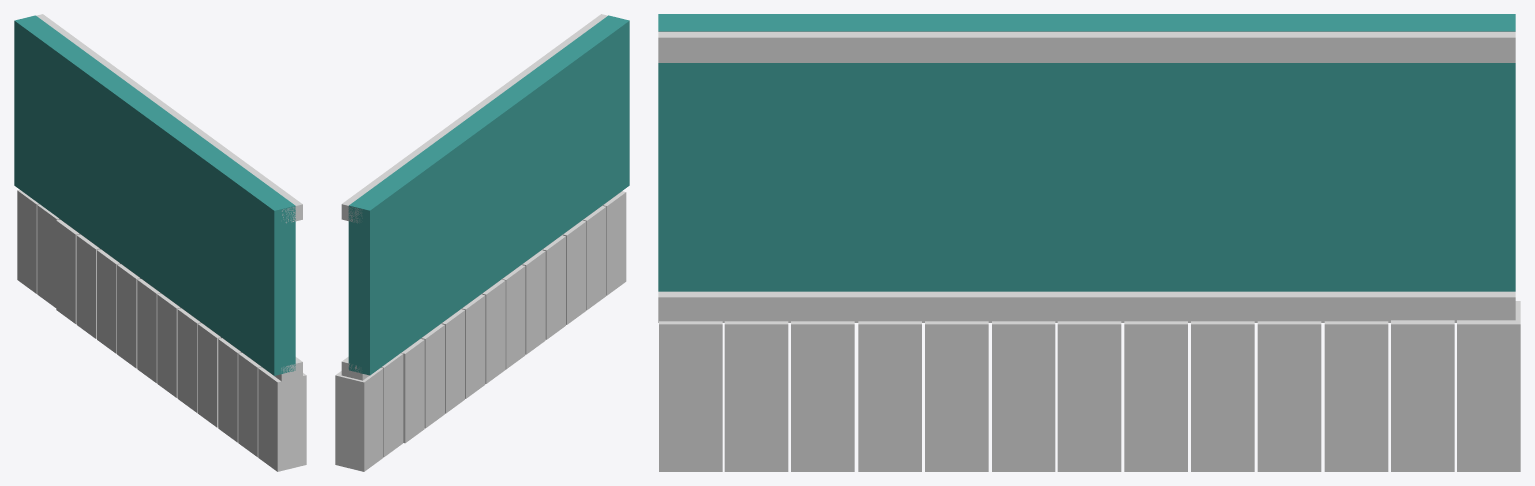
Rendered from mur.FBX.
3 views of the same model, side by side, from view 1: azimuth 30°, elevation 25°; view 2: azimuth 150°, elevation 25°; view 3: azimuth 270°, elevation 25° (orthographic). The views are drawn at different scales.
Visible parts, largest first — view 1: pCube1, pCube3, pCube16, pCube6, pCube7, pCube10, pCube8, pCube12, pCube4, pCube5, pCube9, pCube13 (+4 smaller); view 2: pCube1, pCube15, pCube16, pCube13, pCube3, pCube5, pCube10, pCube8, pCube9, pCube12, pCube6, pCube7 (+4 smaller); view 3: pCube1, pCube16, pCube2, pCube15, pCube4, pCube9, pCube12, pCube13, pCube14, pCube3, pCube5, pCube6 (+4 smaller).
Boxes of the visible parts, box(x1,y1,x2,y2) form: pCube1: box(14, 15, 295, 375); pCube3: box(258, 367, 306, 471); pCube16: box(36, 14, 302, 223); pCube6: box(197, 323, 220, 427); pCube7: box(177, 308, 200, 412); pCube10: box(117, 264, 140, 368); pCube8: box(157, 293, 180, 397); pCube12: box(76, 234, 99, 338); pCube4: box(238, 353, 261, 457); pCube5: box(218, 338, 241, 442); pCube9: box(137, 279, 160, 383); pCube13: box(56, 219, 79, 323); pCube1: box(348, 15, 629, 375); pCube15: box(335, 368, 383, 471); pCube16: box(341, 14, 607, 223); pCube13: box(401, 339, 424, 443); pCube3: box(603, 191, 626, 295); pCube5: box(563, 220, 586, 324); pCube10: box(462, 294, 485, 398); pCube8: box(502, 265, 525, 369); pCube9: box(482, 279, 505, 383); pCube12: box(421, 324, 444, 428); pCube6: box(542, 235, 565, 339); pCube7: box(522, 250, 545, 354); pCube1: box(658, 14, 1515, 291); pCube16: box(658, 31, 1515, 62); pCube2: box(658, 291, 1515, 322); pCube15: box(1457, 301, 1520, 471); pCube4: box(724, 321, 788, 471); pCube9: box(1057, 321, 1121, 471); pCube12: box(1257, 321, 1321, 471); pCube13: box(1324, 321, 1388, 471); pCube14: box(1391, 320, 1454, 471); pCube3: box(659, 321, 722, 471); pCube5: box(791, 321, 854, 471); pCube6: box(858, 321, 921, 471).
Size of the model in its own units: 2.2 by 16.47 by 29.8.
